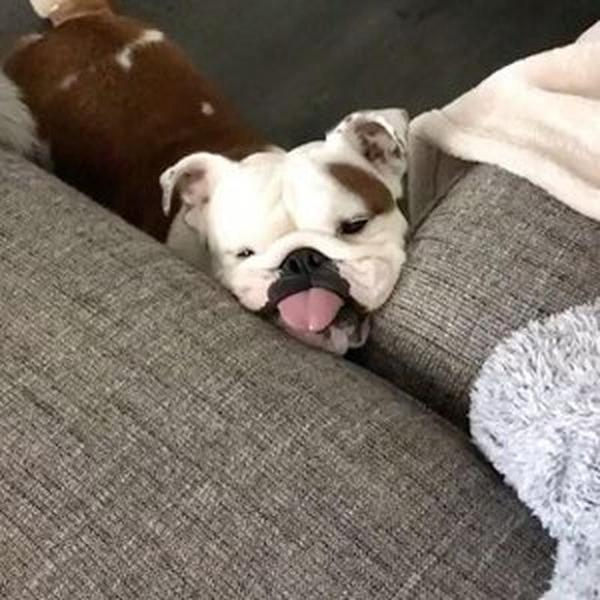allqu: (21, 7, 454, 352)
